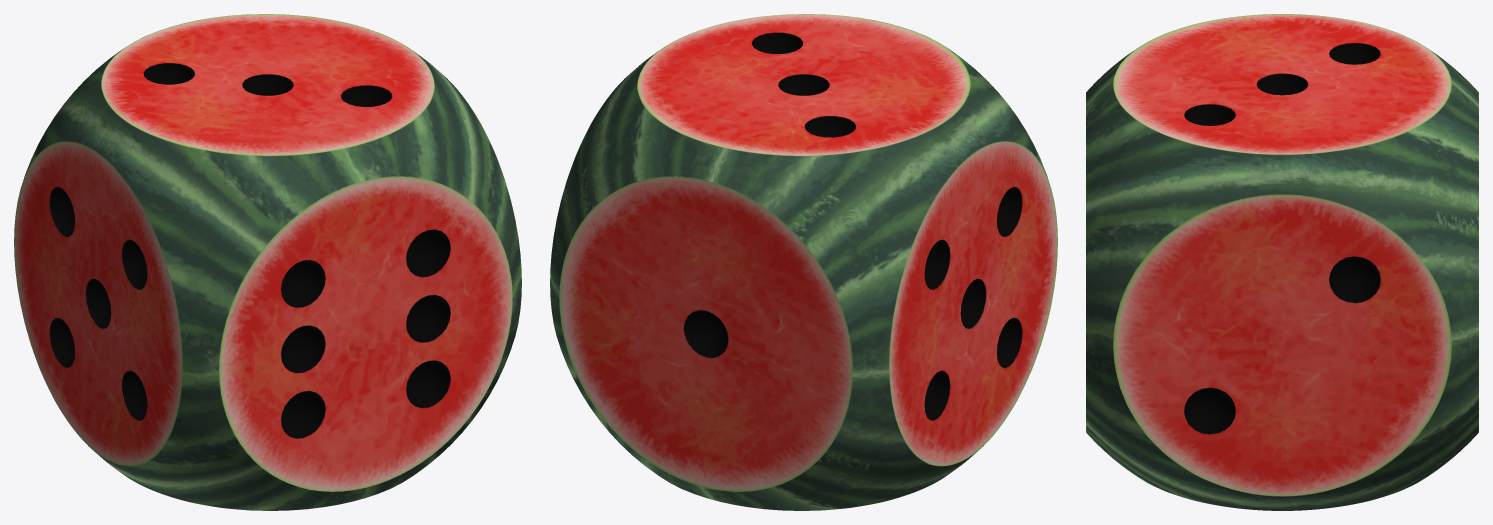
Rendered from dice3.glb.
3 views of the same model, side by side, from view 1: azimuth 30°, elevation 25°; view 2: azimuth 150°, elevation 25°; view 3: azimuth 270°, elevation 25° (orthographic).
Visible parts, largest first — view 1: Sketchfab Model; view 2: Sketchfab Model; view 3: Sketchfab Model.
Boxes of the visible parts, left/top/right/bottom form: Sketchfab Model: left=14, top=14, right=521, bottom=510; Sketchfab Model: left=550, top=14, right=1057, bottom=510; Sketchfab Model: left=1086, top=14, right=1478, bottom=510.
Size of the model in its own units: 0.4077 by 0.4077 by 0.4077.
1 material, 1 textured.
